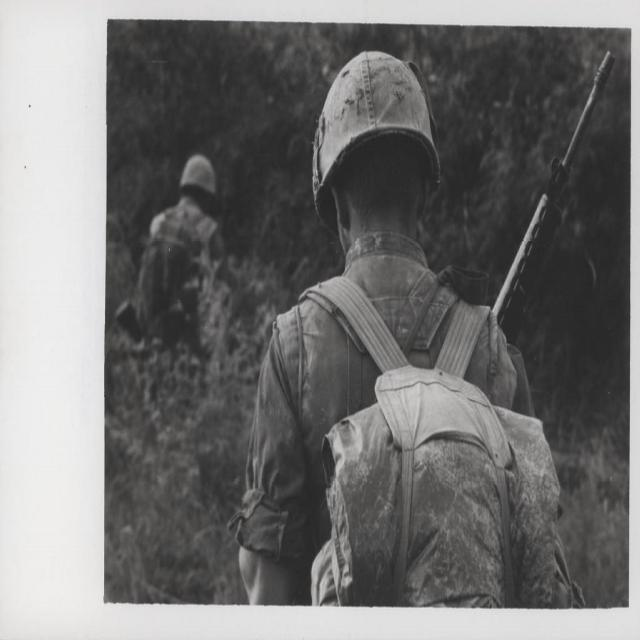weapon: (484, 51, 620, 347)
